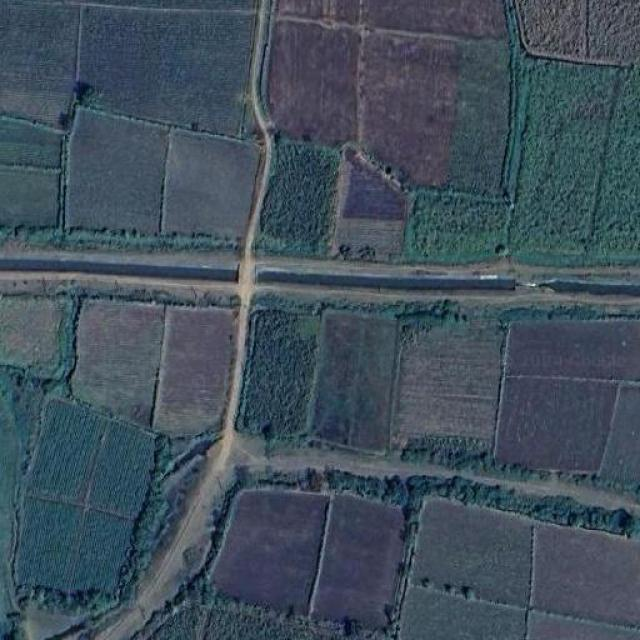land-Sx1C: (510, 51, 640, 263), (15, 398, 154, 592), (212, 490, 404, 626), (80, 8, 252, 134), (148, 574, 394, 639), (361, 32, 460, 186), (212, 490, 328, 612), (394, 312, 501, 444), (410, 499, 531, 606), (66, 109, 168, 233), (314, 310, 398, 451), (72, 300, 164, 427), (496, 376, 616, 471), (269, 19, 359, 143), (531, 526, 640, 624), (152, 309, 235, 437), (238, 308, 320, 436), (161, 130, 258, 237), (259, 135, 340, 256), (0, 0, 79, 124), (446, 40, 509, 194), (331, 148, 406, 259), (515, 0, 640, 64), (506, 321, 640, 379), (404, 189, 505, 262), (399, 586, 524, 640), (362, 0, 506, 38), (0, 298, 68, 377), (600, 381, 640, 484), (0, 166, 60, 226), (528, 610, 640, 640), (589, 0, 640, 62), (0, 118, 59, 167), (277, 0, 359, 23)
